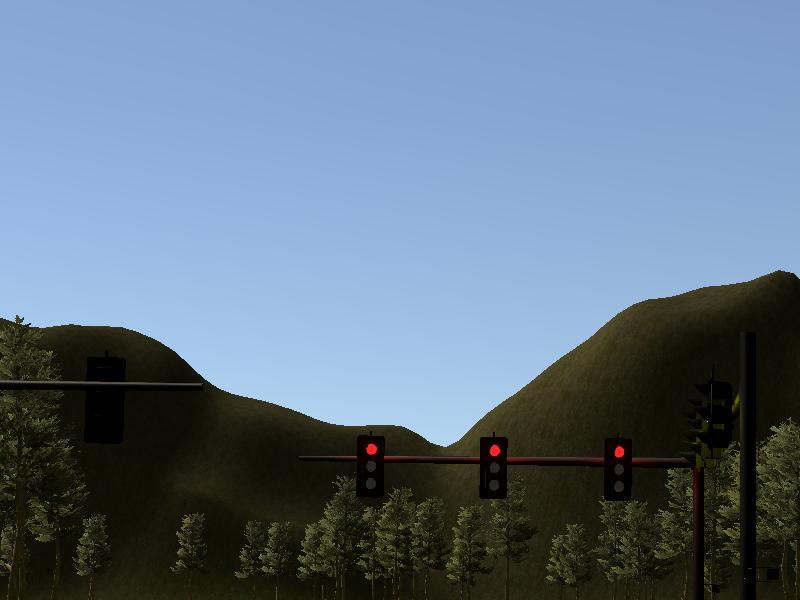Red: (478, 437, 508, 499), (602, 440, 632, 499), (357, 435, 384, 497)
